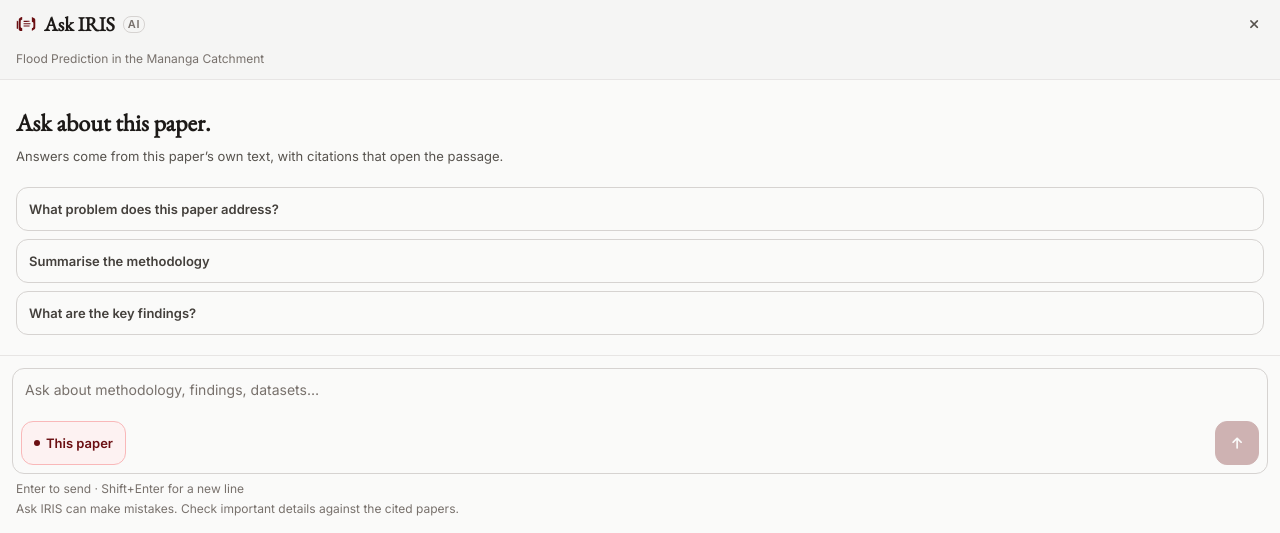
the widen control › says when an answer left this paper's scope
Type "How does this compare to other work?" into the text box named "ask about this paper" at coordinates (640, 395), box [13,369,1267,421]
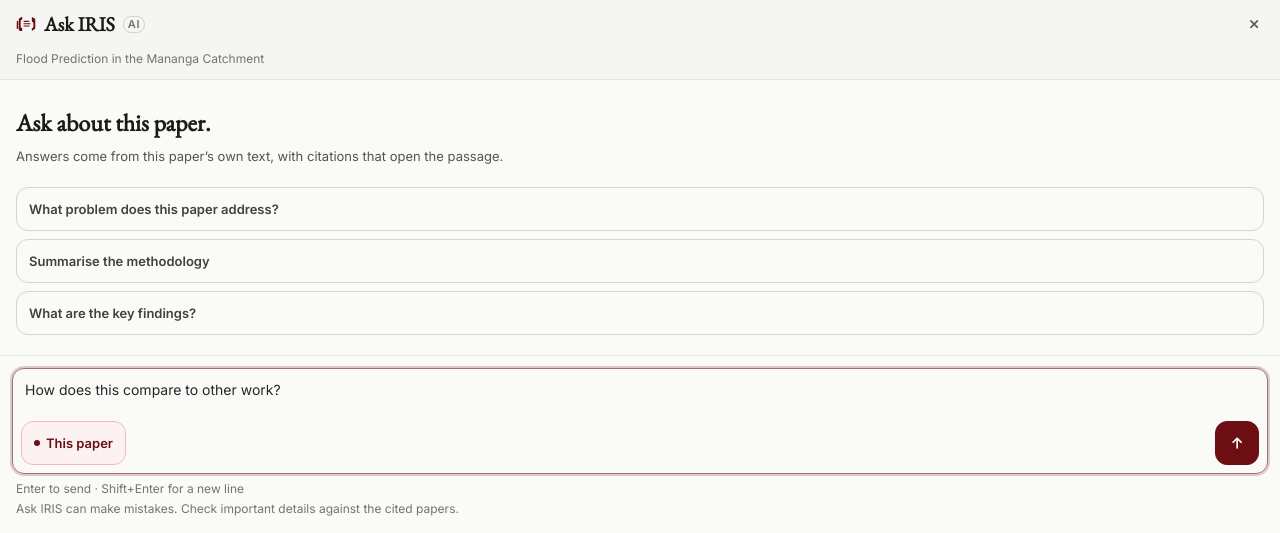
Click the button named "send" at coordinates (1237, 443), box [1215,421,1259,465]
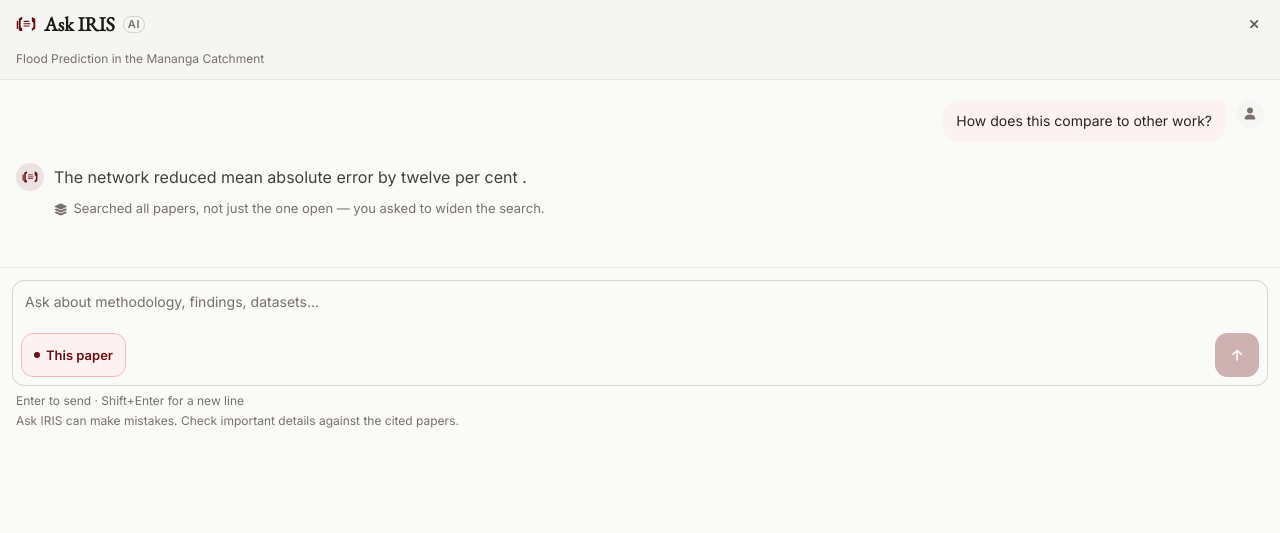
Expected: the text "Searched all papers" is shown, [74,200,545,216]
